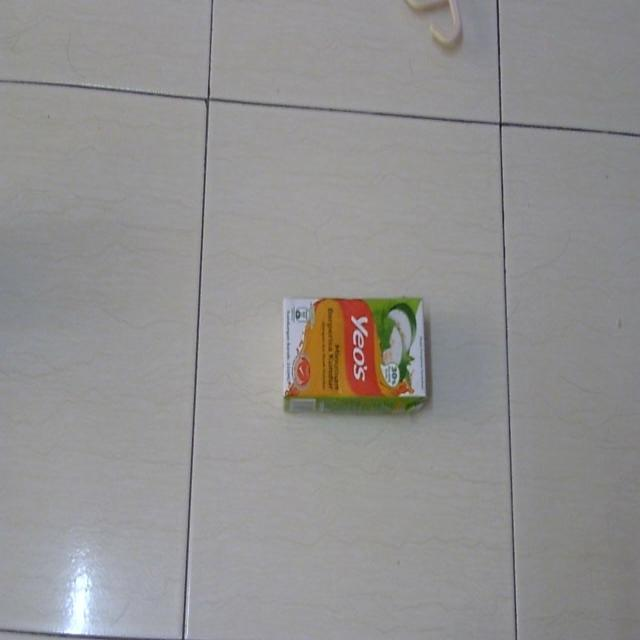plastic_laydown_0rotation: (267, 273, 433, 439)
